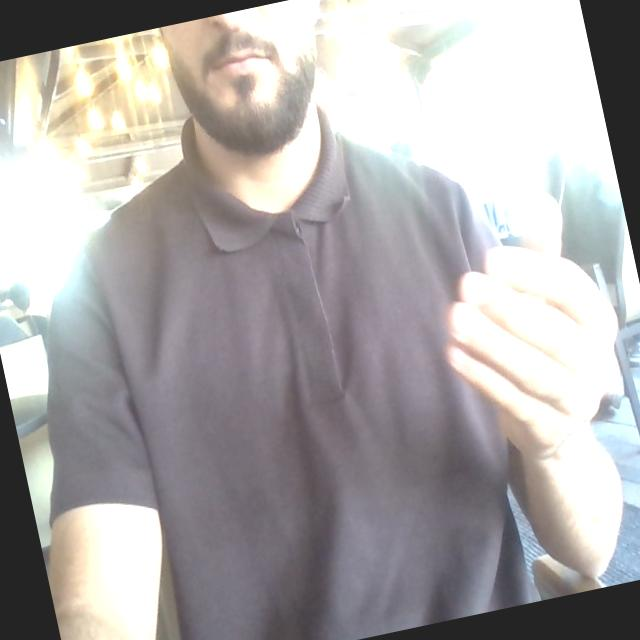Hand: (447, 207, 618, 459)
